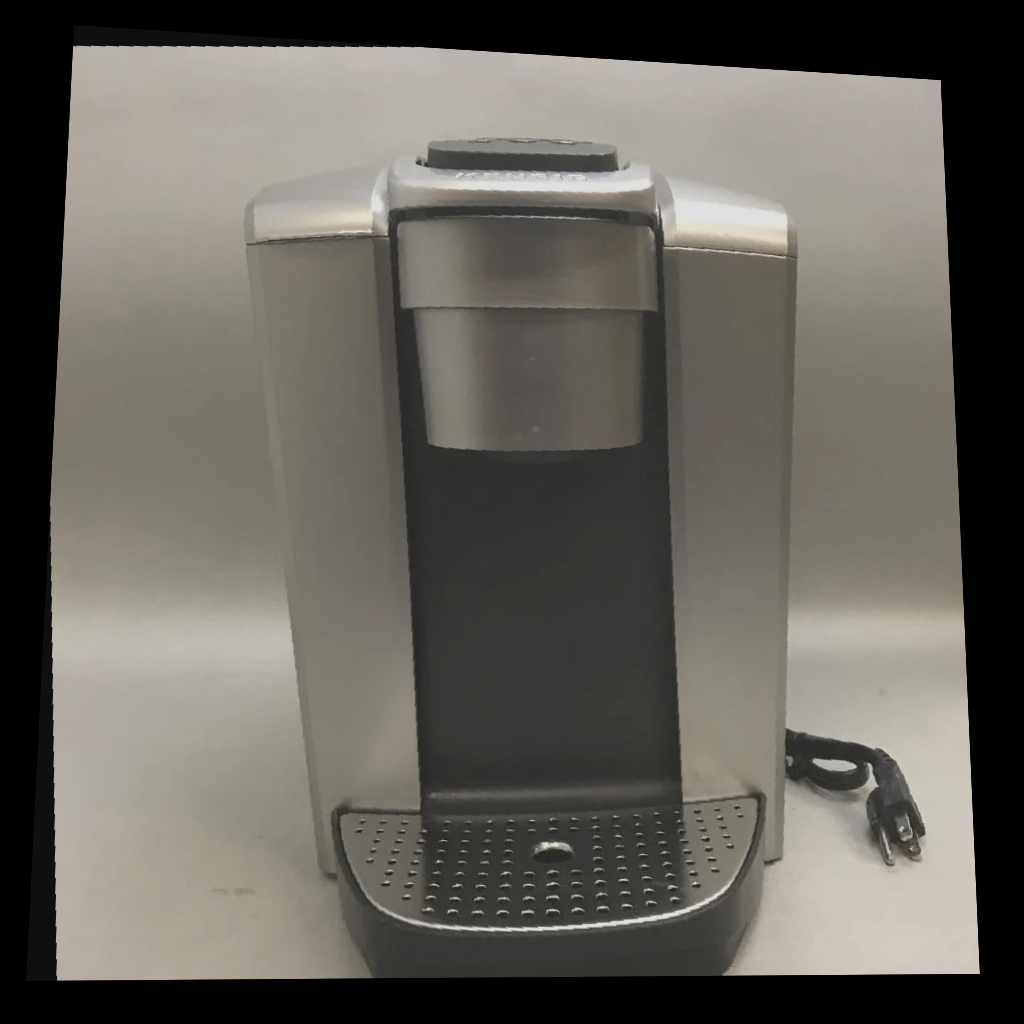platform: (529, 838, 578, 866)
